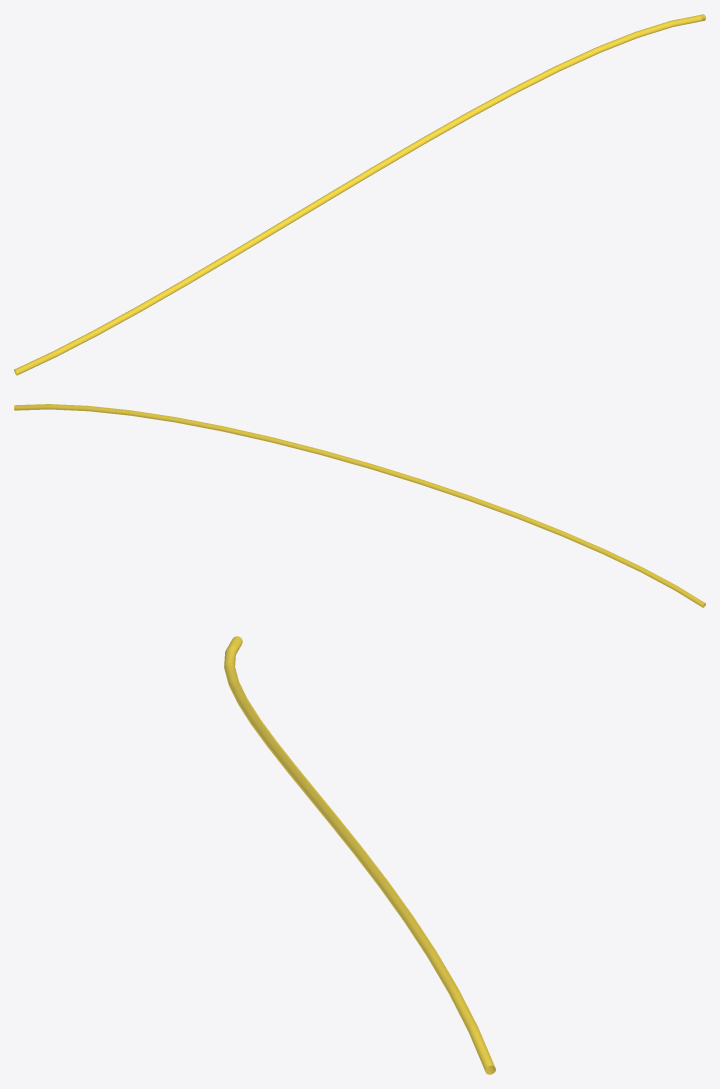
The model's file is Event_100608114_track_73.fbx.
3 renders of one model, top to bottom at view 1: azimuth 30°, elevation 25°; view 2: azimuth 150°, elevation 25°; view 3: azimuth 270°, elevation 25°, orthographic. The views are drawn at different scales.
Visible parts, largest first — view 1: Model; view 2: Model; view 3: Model.
Boxes of the visible parts, bbox=[...] form: Model: bbox=[14, 14, 705, 375]; Model: bbox=[14, 404, 705, 607]; Model: bbox=[224, 636, 495, 1074].
Size of the model in its own units: 5.3 by 0.8461 by 0.9935.
